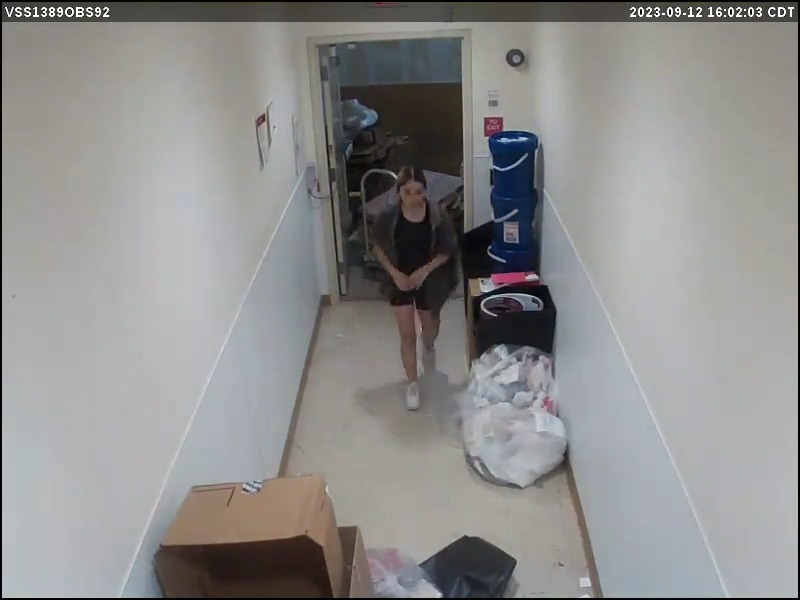No-gloves: (383, 265, 409, 299), (406, 263, 433, 291)
